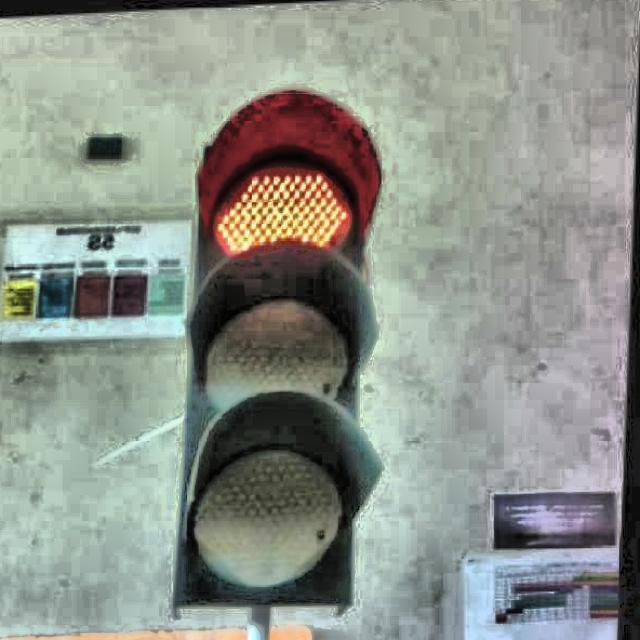red: (176, 88, 369, 604)
